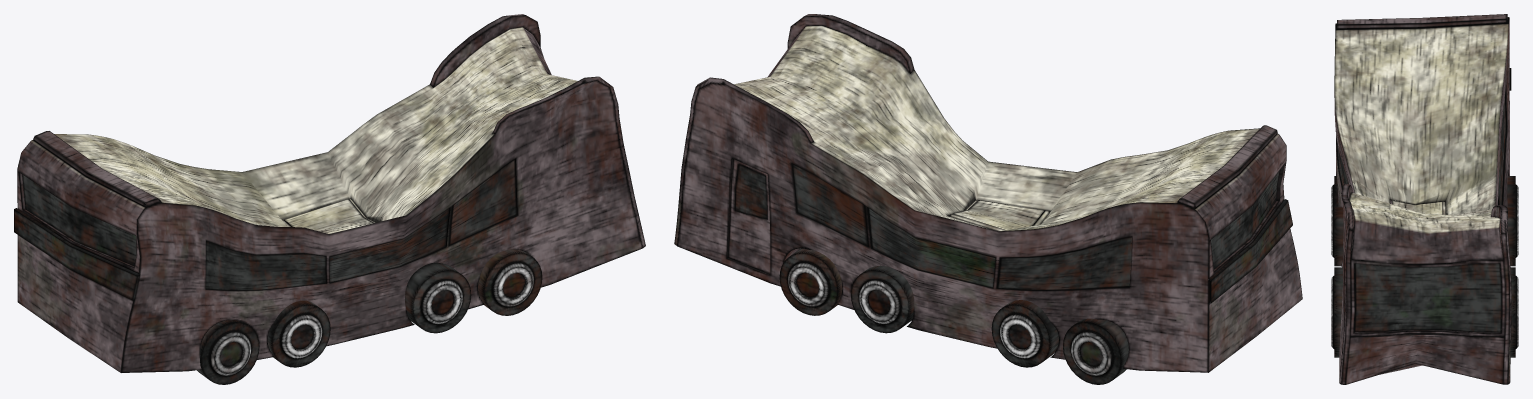
The model's file is Bus_02.fbx.
3 renders of one model, left to right at view 1: azimuth 30°, elevation 25°; view 2: azimuth 150°, elevation 25°; view 3: azimuth 270°, elevation 25°, orthographic. The views are drawn at different scales.
Visible parts, largest first — view 1: SM_Bus.02; view 2: SM_Bus.02; view 3: SM_Bus.02.
Part boxes in pixels (x1,y1,x2,y2): SM_Bus.02: (14, 14, 645, 384); SM_Bus.02: (674, 14, 1302, 384); SM_Bus.02: (1331, 14, 1518, 384).
Bounding box in the file's own units: 629 × 235 × 215.
